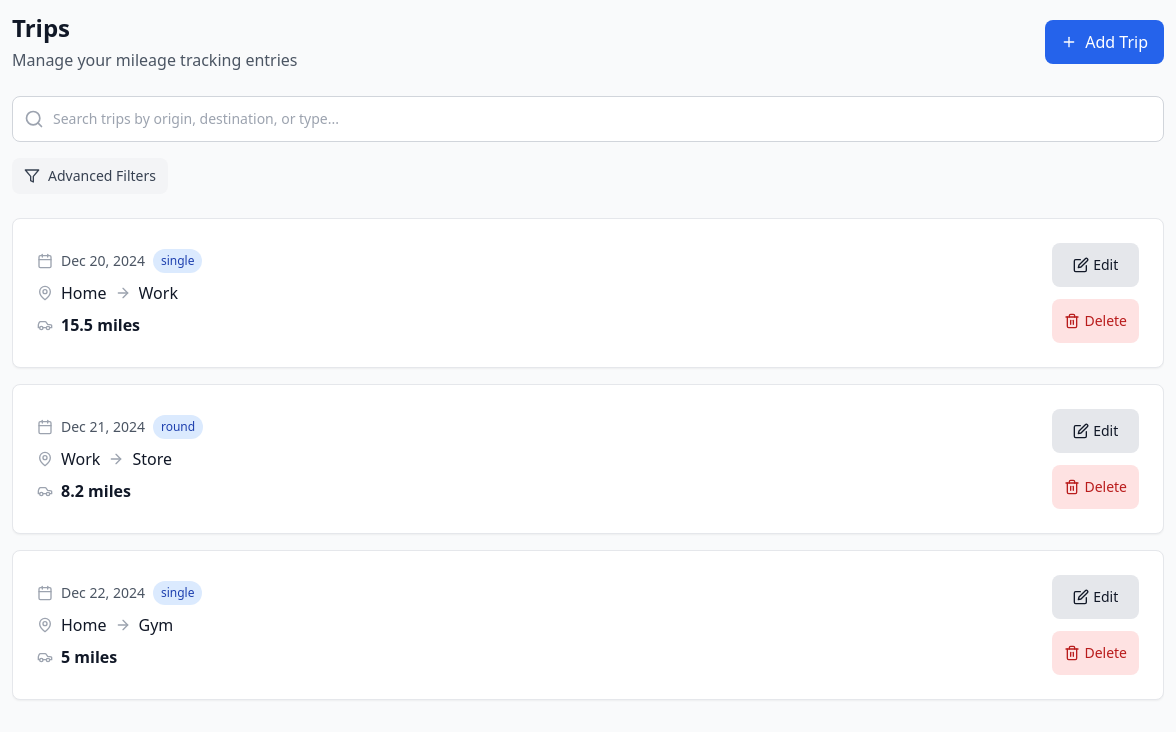
Test case: Trips › Search and Filtering › shows appropriate message when no trips match filters
The image size is (1176, 732).
Expected: the text "Home" below "Dec 20, 2024" is shown, [61, 282, 106, 304]
Type "nonexistent" into the field with placeholder "Search trips by origin, destination, or type..." at {"x": 588, "y": 119}, box [12, 96, 1164, 142]
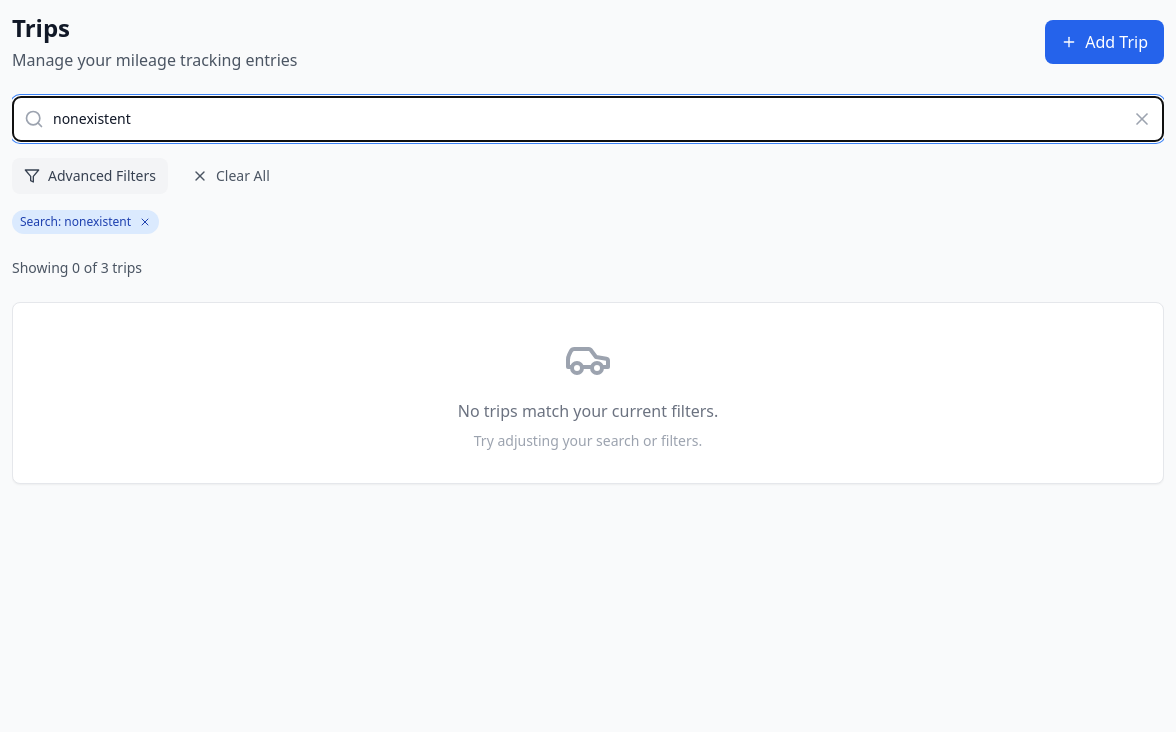
Result: the text "No trips match your current filters." is shown at [458, 400, 718, 422]
Result: the text "Try adjusting your search or filters." is shown at [474, 431, 702, 450]
